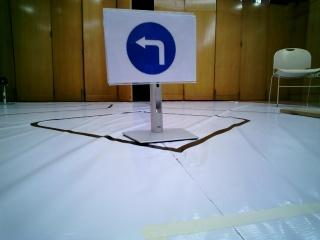left: (106, 9, 200, 83)
